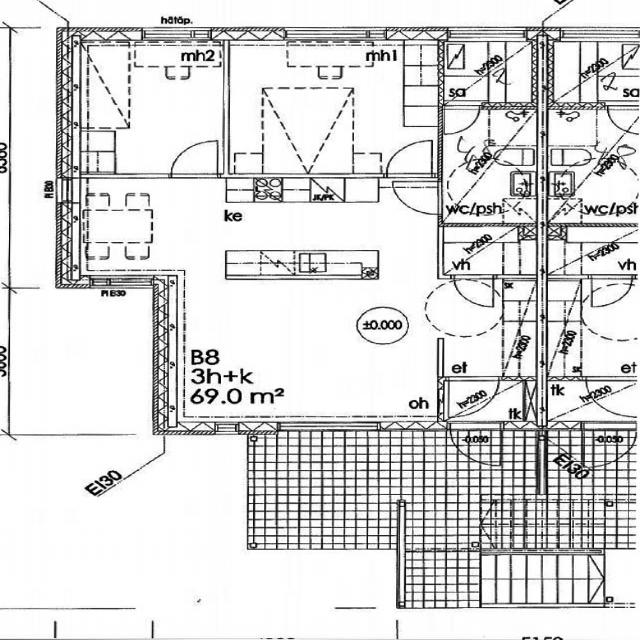door: (450, 421, 500, 466), (449, 376, 498, 415), (171, 140, 218, 178), (392, 181, 444, 214), (386, 141, 432, 178), (454, 275, 493, 306), (445, 102, 479, 133)
